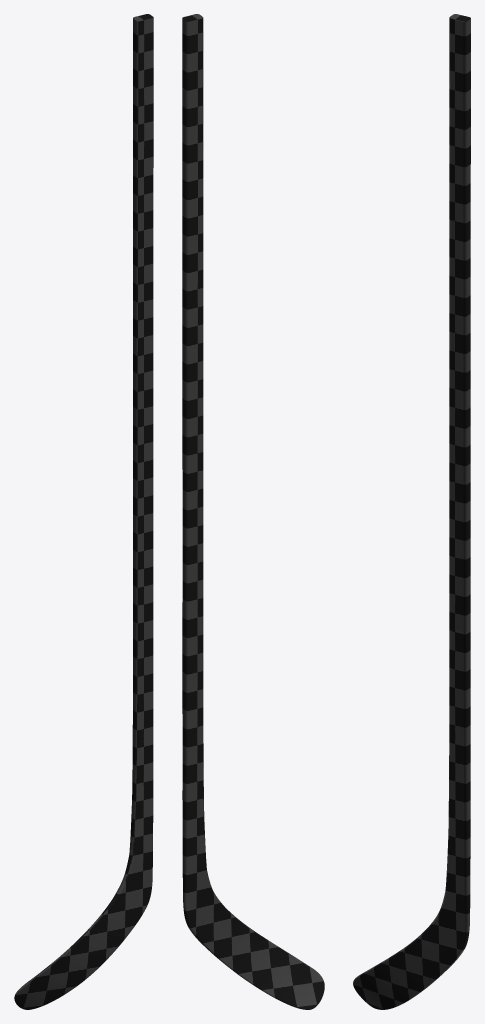
3 views of the same model, side by side, from view 1: azimuth 30°, elevation 25°; view 2: azimuth 210°, elevation 25°; view 3: azimuth 330°, elevation 25° (orthographic). The views are drawn at different scales.
Parts seen in each view (by area): view 1: geometry_0; view 2: geometry_0; view 3: geometry_0.
Boxes of the visible parts, bbox=[...] form: geometry_0: bbox=[14, 14, 153, 1009]; geometry_0: bbox=[182, 14, 324, 1009]; geometry_0: bbox=[353, 14, 470, 1009].
Size of the model in its own units: 218 by 1650 by 62.36.
Materials: 1 (1 with a texture image).
